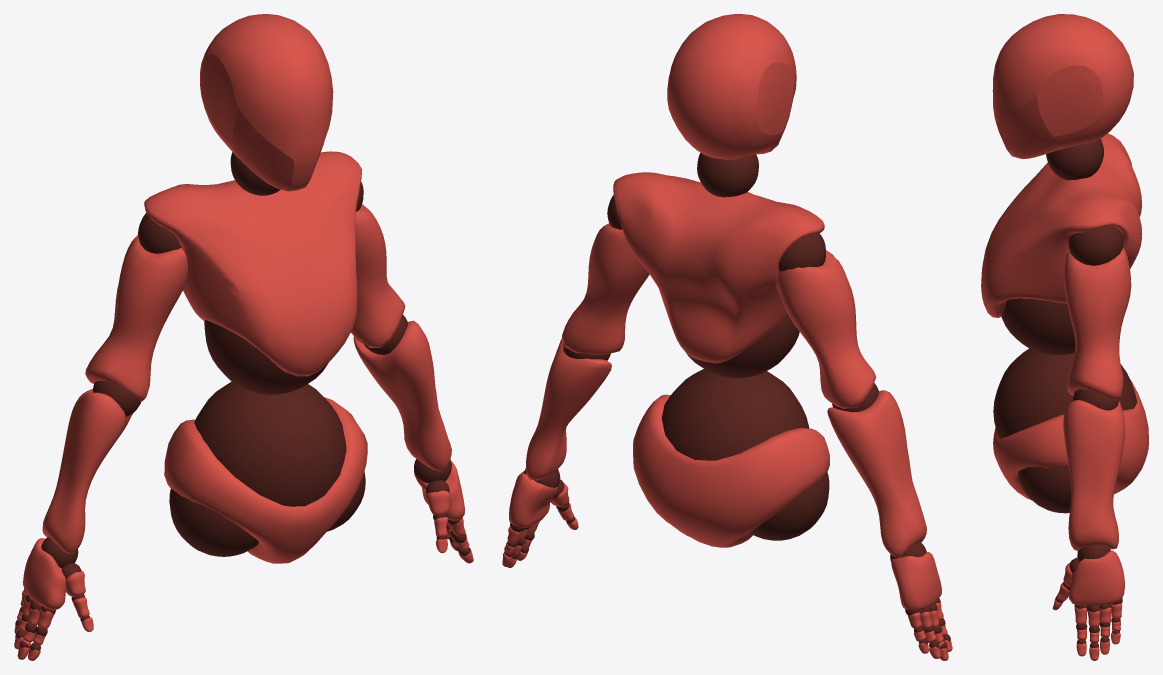
Rendered from tronco.obj.
3 views of the same model, side by side, from view 1: azimuth 30°, elevation 25°; view 2: azimuth 150°, elevation 25°; view 3: azimuth 270°, elevation 25° (orthographic). The views are drawn at different scales.
Parts seen in each view (by area): view 1: Beta_Surface.003_Mesh.004, Beta_Joints_Mesh, Beta_Surface.001_Mesh.002, Beta_Surface.002_Mesh.003, Beta_Surface_Mesh.012, Beta_Joints.001_Mesh.001, Beta_Joints.002_Mesh.005, Beta_Joints.003_Mesh.010; view 2: Beta_Surface.003_Mesh.004, Beta_Surface.001_Mesh.002, Beta_Joints_Mesh, Beta_Surface_Mesh.012, Beta_Surface.002_Mesh.003, Beta_Joints.001_Mesh.001, Beta_Joints.002_Mesh.005; view 3: Beta_Surface.003_Mesh.004, Beta_Surface.002_Mesh.003, Beta_Joints_Mesh, Beta_Surface_Mesh.012, Beta_Joints.002_Mesh.005, Beta_Joints.004_Mesh.011.
Boxes of the visible parts, box(x1,y1,x2,y2) form: Beta_Surface.003_Mesh.004: box(144, 14, 362, 376); Beta_Joints_Mesh: box(138, 152, 365, 556); Beta_Surface.001_Mesh.002: box(14, 235, 187, 660); Beta_Surface.002_Mesh.003: box(351, 204, 473, 563); Beta_Surface_Mesh.012: box(164, 397, 367, 563); Beta_Joints.001_Mesh.001: box(16, 536, 89, 650); Beta_Joints.002_Mesh.005: box(414, 459, 470, 555); Beta_Joints.003_Mesh.010: box(93, 381, 141, 416); Beta_Surface.003_Mesh.004: box(613, 14, 824, 363); Beta_Surface.001_Mesh.002: box(776, 250, 952, 660); Beta_Joints_Mesh: box(607, 152, 829, 540); Beta_Surface_Mesh.012: box(633, 394, 829, 547); Beta_Surface.002_Mesh.003: box(502, 223, 649, 567); Beta_Joints.001_Mesh.001: box(890, 542, 950, 648); Beta_Joints.002_Mesh.005: box(504, 468, 575, 559); Beta_Surface.003_Mesh.004: box(981, 14, 1142, 317); Beta_Surface.002_Mesh.003: box(1052, 248, 1131, 660); Beta_Joints_Mesh: box(993, 138, 1137, 513); Beta_Surface_Mesh.012: box(993, 378, 1148, 500); Beta_Joints.002_Mesh.005: box(1055, 545, 1122, 647); Beta_Joints.004_Mesh.011: box(1073, 389, 1118, 410).
Size of the model in its own units: 0.8334 by 1.06 by 0.2956.
